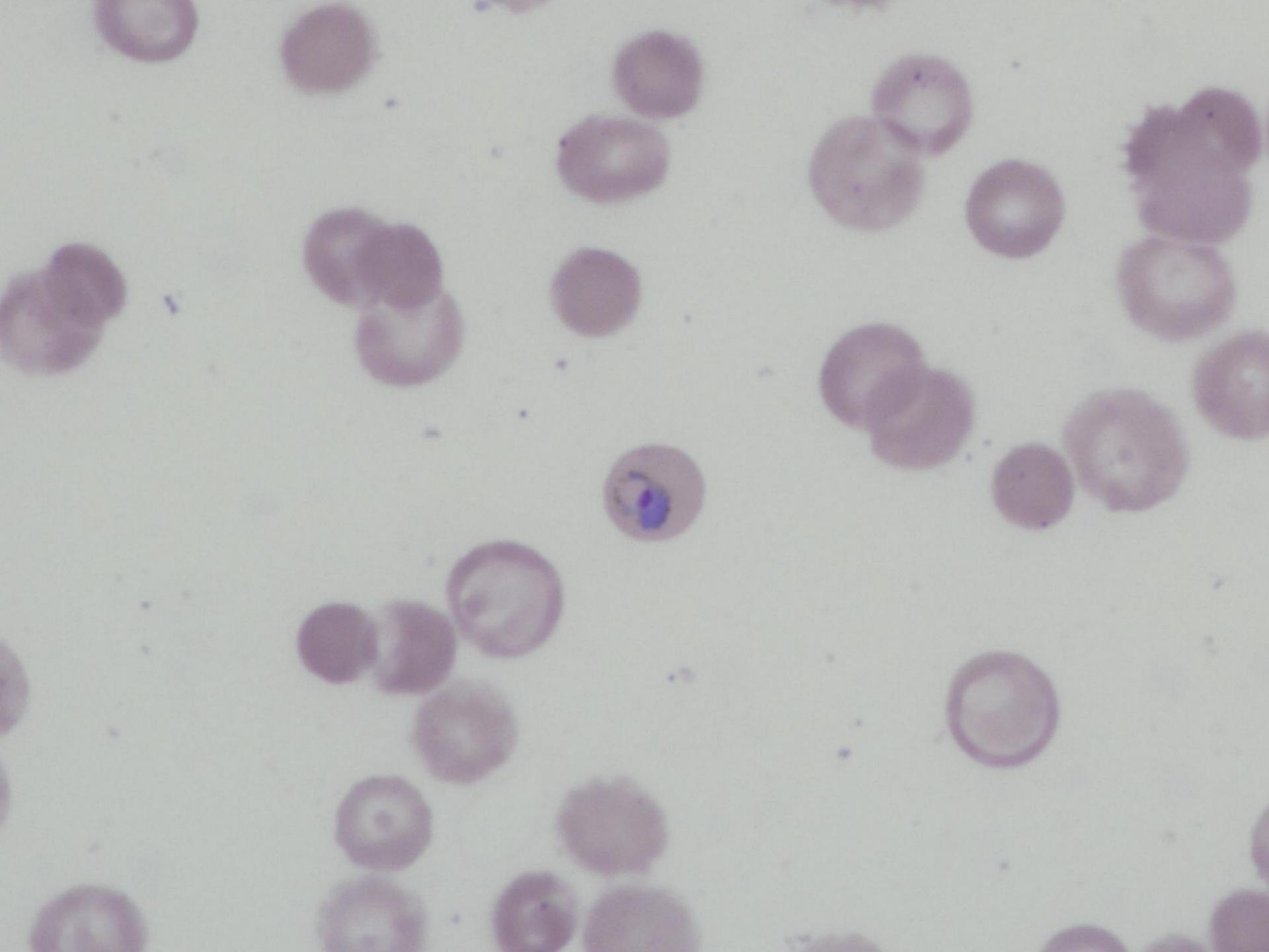Infected: (601, 444, 705, 540)
Uninfected: (1063, 389, 1184, 511), (445, 542, 563, 656), (944, 652, 1058, 764), (1137, 141, 1253, 249), (810, 120, 923, 227), (1115, 238, 1229, 338), (867, 365, 974, 467), (557, 778, 668, 874), (820, 322, 920, 427), (413, 684, 517, 783), (5, 273, 110, 370), (555, 113, 669, 202), (872, 56, 974, 153), (965, 161, 1065, 256), (333, 776, 433, 870), (360, 296, 460, 386), (317, 872, 425, 952), (550, 248, 641, 335), (305, 207, 389, 299), (613, 30, 703, 115), (283, 4, 374, 86), (583, 885, 694, 952), (1193, 335, 1268, 434), (34, 885, 144, 952), (356, 222, 443, 306), (991, 445, 1075, 530), (375, 603, 456, 690), (493, 873, 576, 951), (86, 0, 193, 60), (46, 245, 127, 322), (297, 604, 374, 682), (1181, 88, 1258, 158), (1211, 893, 1266, 952)
